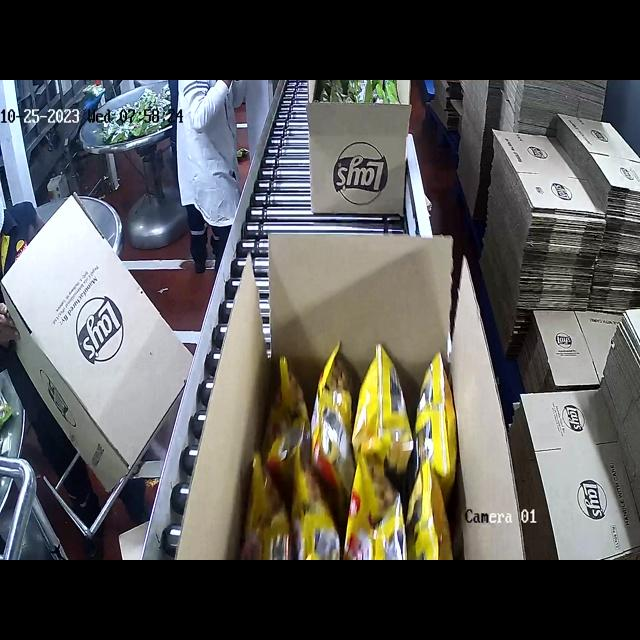salted: (262, 351, 432, 560)
yogurt: (313, 84, 408, 108)
